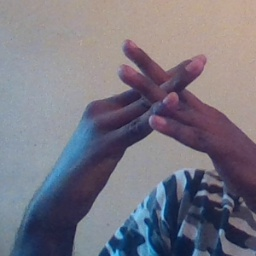W: (98, 30, 225, 173)
